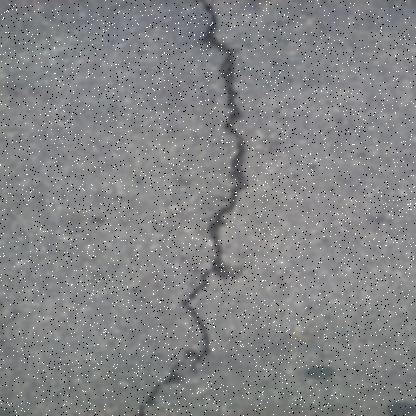Cracks: (134, 1, 255, 416)
